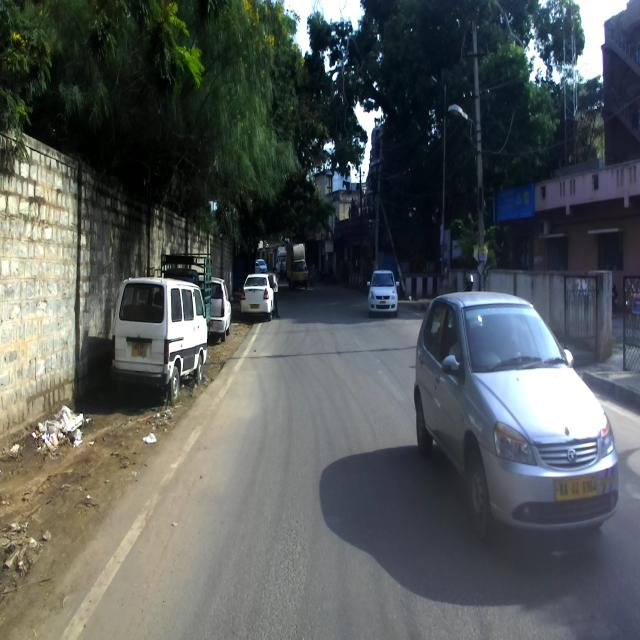car ahead at: (417, 289, 628, 561), (115, 273, 207, 393), (369, 265, 402, 314), (240, 269, 272, 314)
